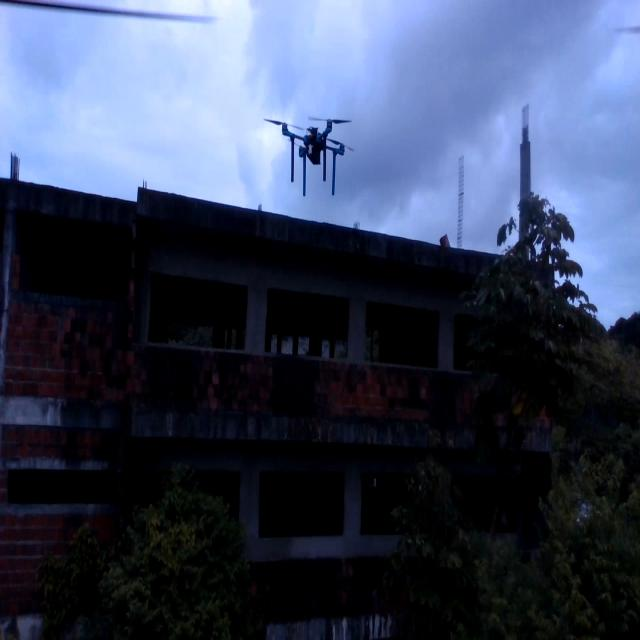-uav-: (245, 62, 371, 225)
